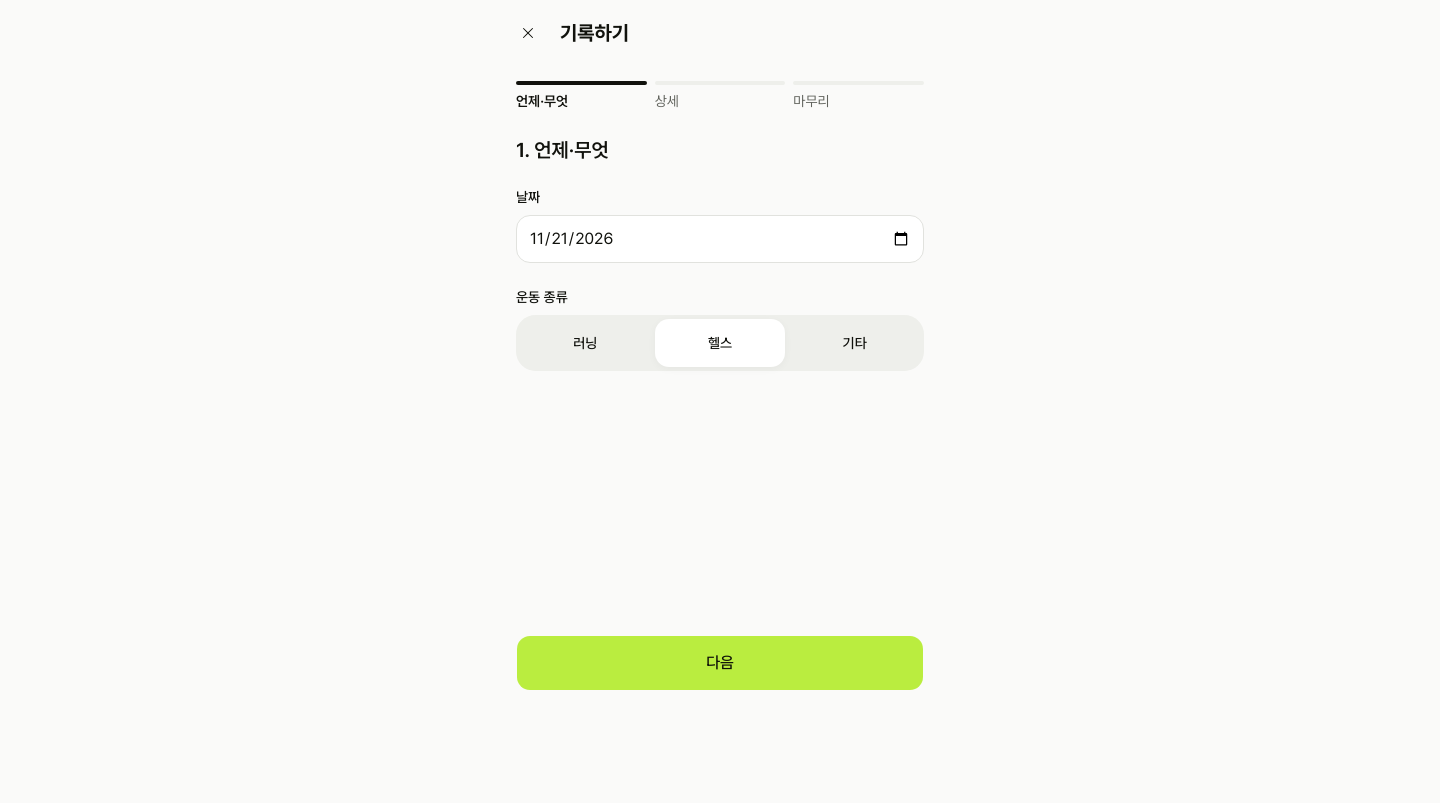
루틴으로 운동한 뒤 루틴 갱신 제안 › 수정 화면에서 루틴을 불러오면 저장 뒤 묻는다
This screenshot has width=1440, height=803.
Click the button "다음": coordinates (720, 663) [516,635,924,691]
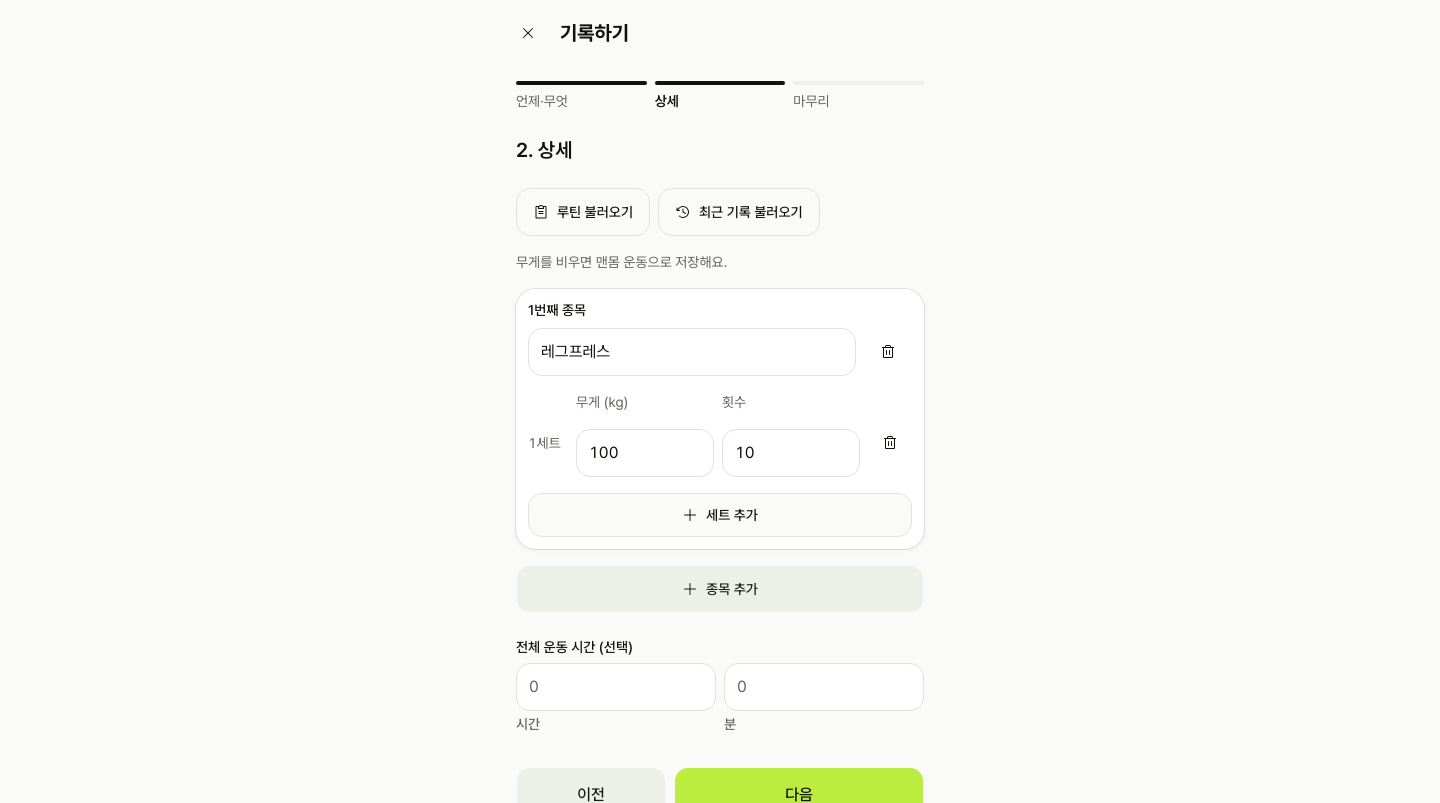
Click the button "루틴 불러오기": coordinates (583, 212) [516,188,650,236]
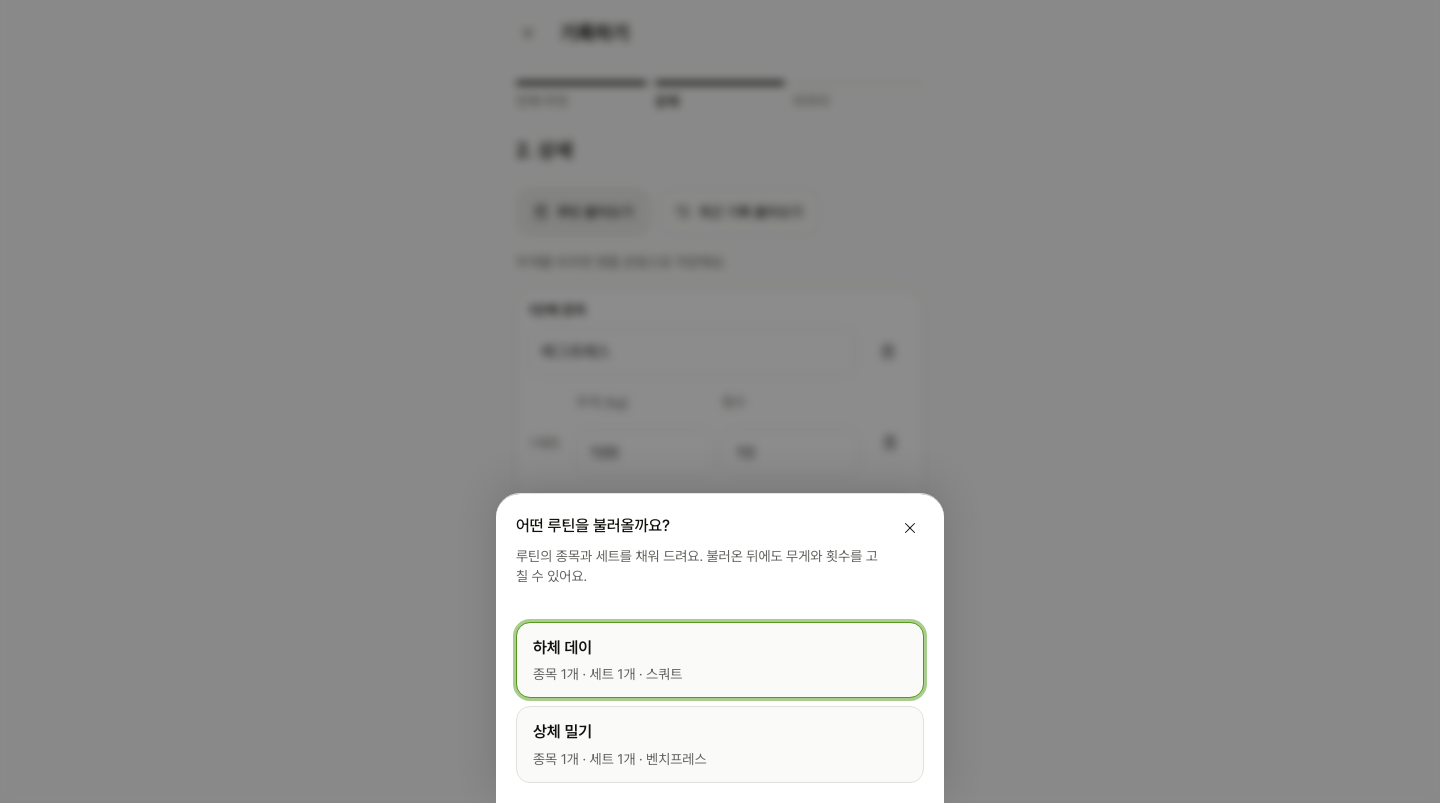
Click the button "하체 데이 종목 1개 · 세트 1개 · 스쿼트": coordinates (563, 647) [516,622,924,698]
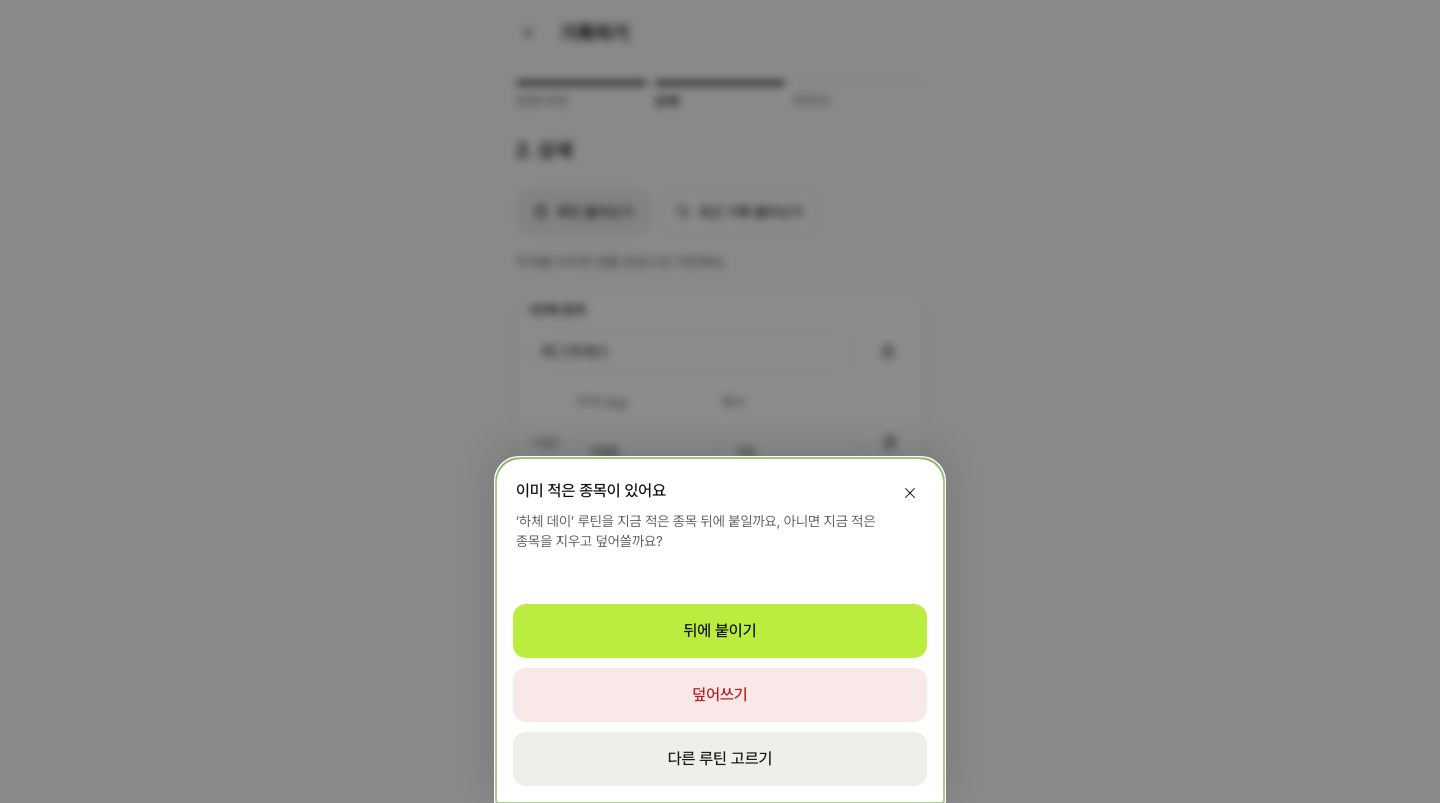
Click the button "덮어쓰기": coordinates (720, 695) [512,667,928,723]
(page scrolled)
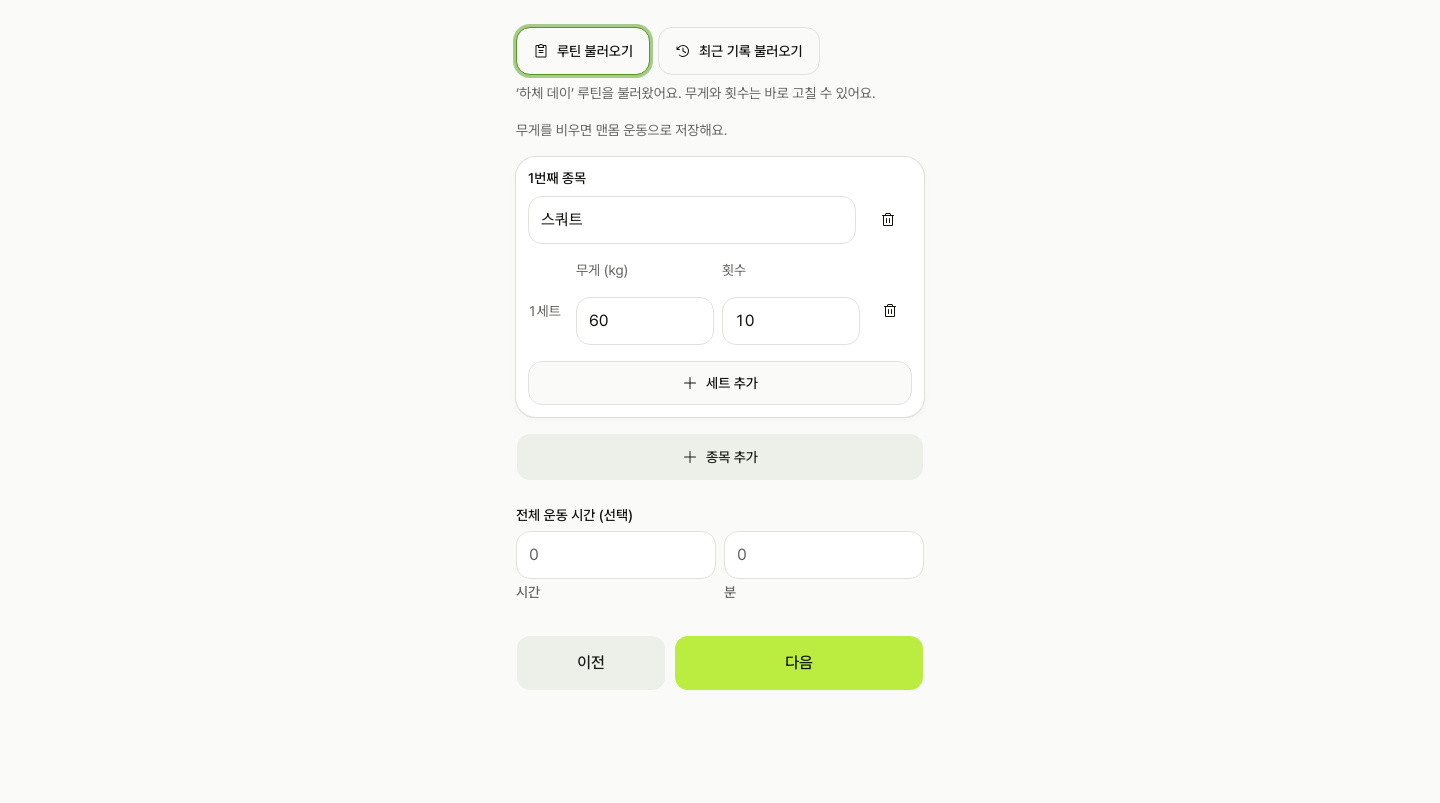
Click the button "다음": coordinates (799, 662) [674,634,924,690]
(page scrolled)
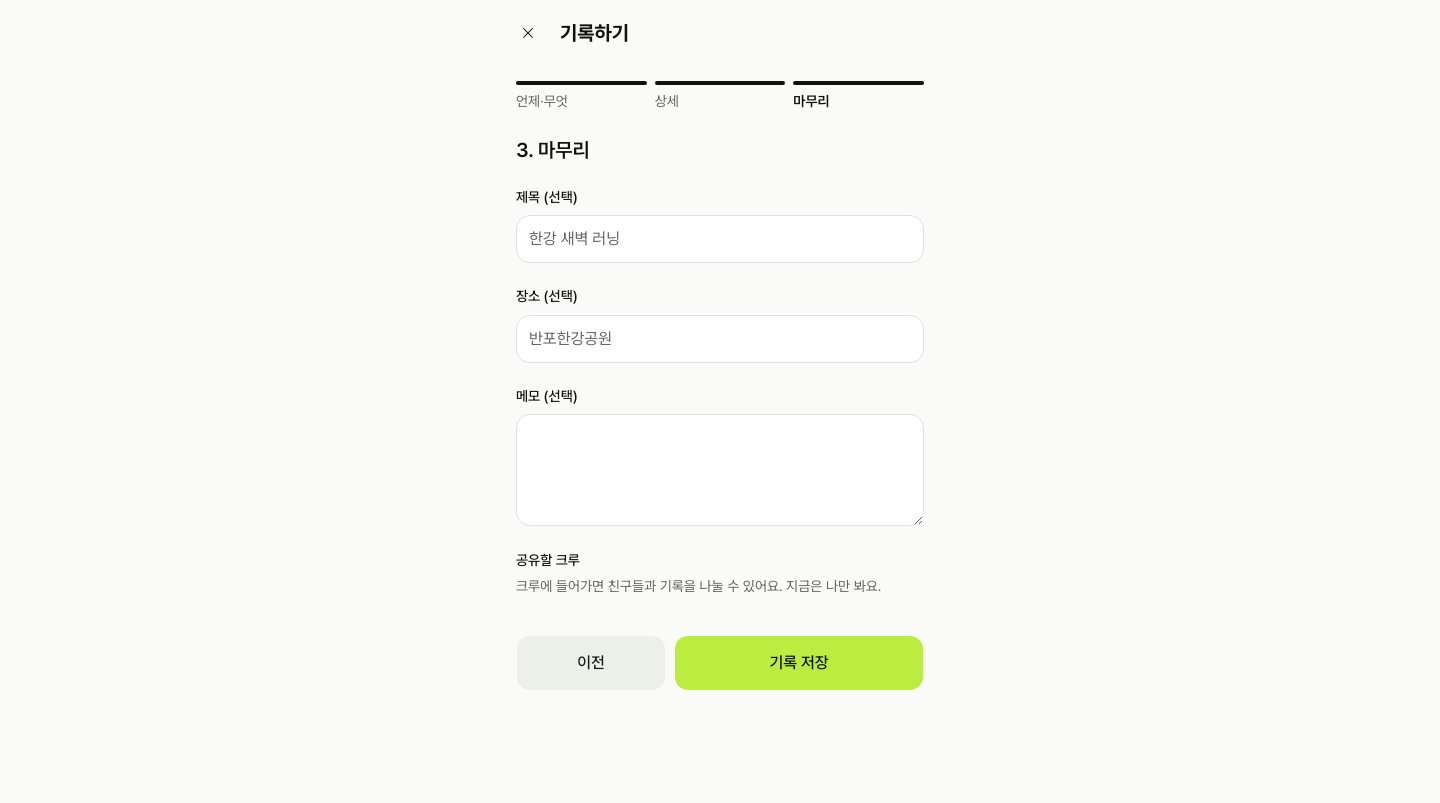
Click the button "기록 저장": coordinates (799, 663) [674,635,924,691]
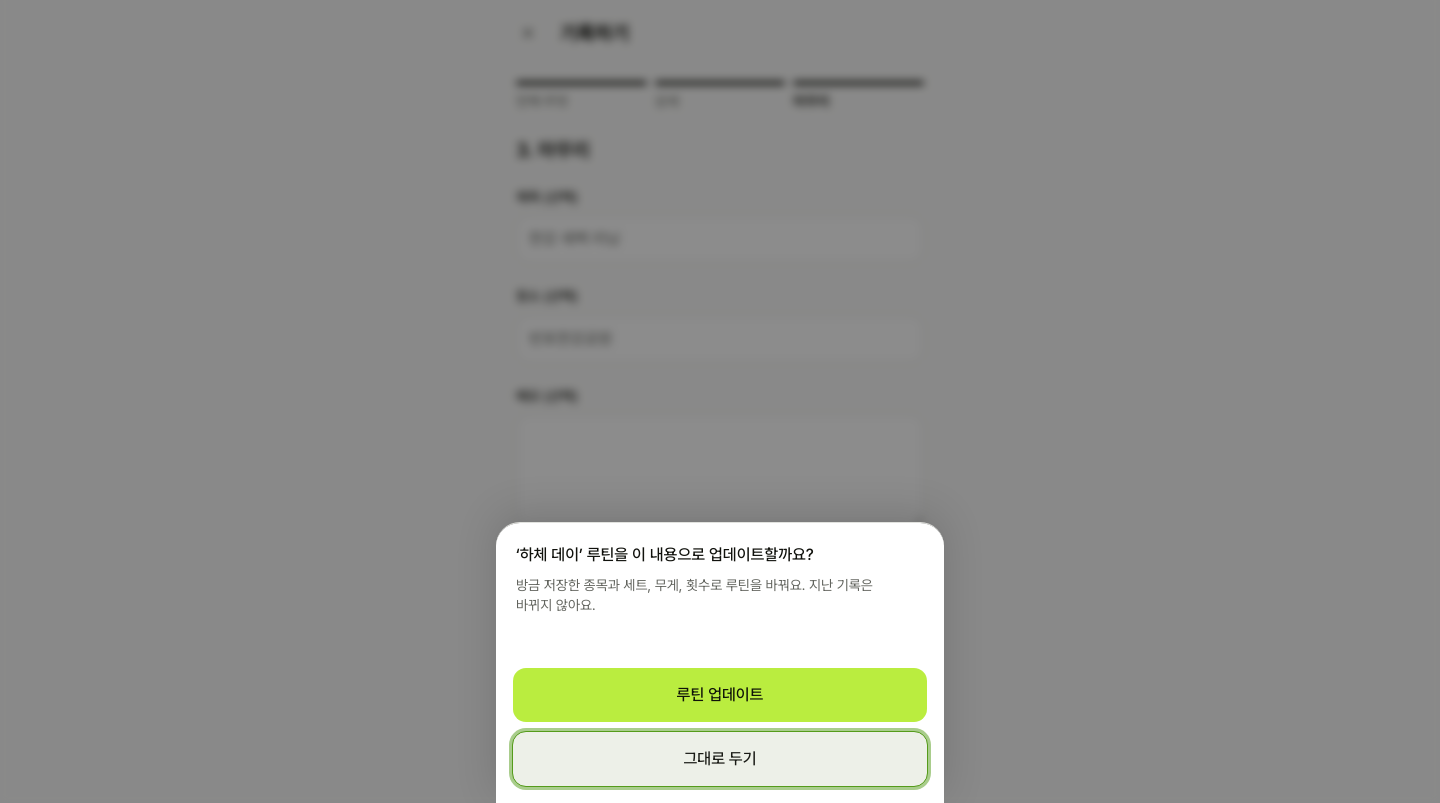
Result: the dialog "‘하체 데이’ 루틴을 이 내용으로 업데이트할까요?" is shown at [496,522,944,802]
